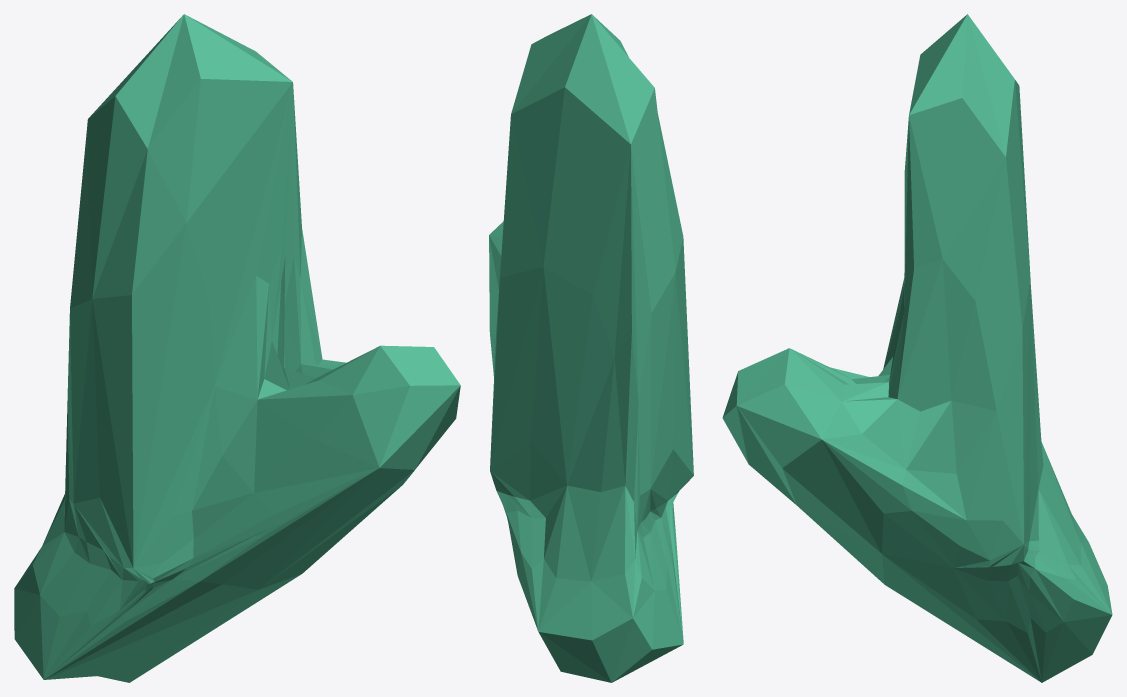
The picture shows the model from 3 angles, left to right: view 1: azimuth 30°, elevation 25°; view 2: azimuth 150°, elevation 25°; view 3: azimuth 270°, elevation 25°; orthographic projection. The views are drawn at different scales.
Visible parts, largest first — view 1: 892_Cube.3601; view 2: 892_Cube.3601; view 3: 892_Cube.3601.
Boxes of the visible parts, x1=… form: 892_Cube.3601: x1=14, y1=14, x2=460, y2=682; 892_Cube.3601: x1=489, y1=14, x2=693, y2=682; 892_Cube.3601: x1=722, y1=14, x2=1112, y2=682.
Bounding box in the file's own units: 7.26 × 15.58 × 8.14.
